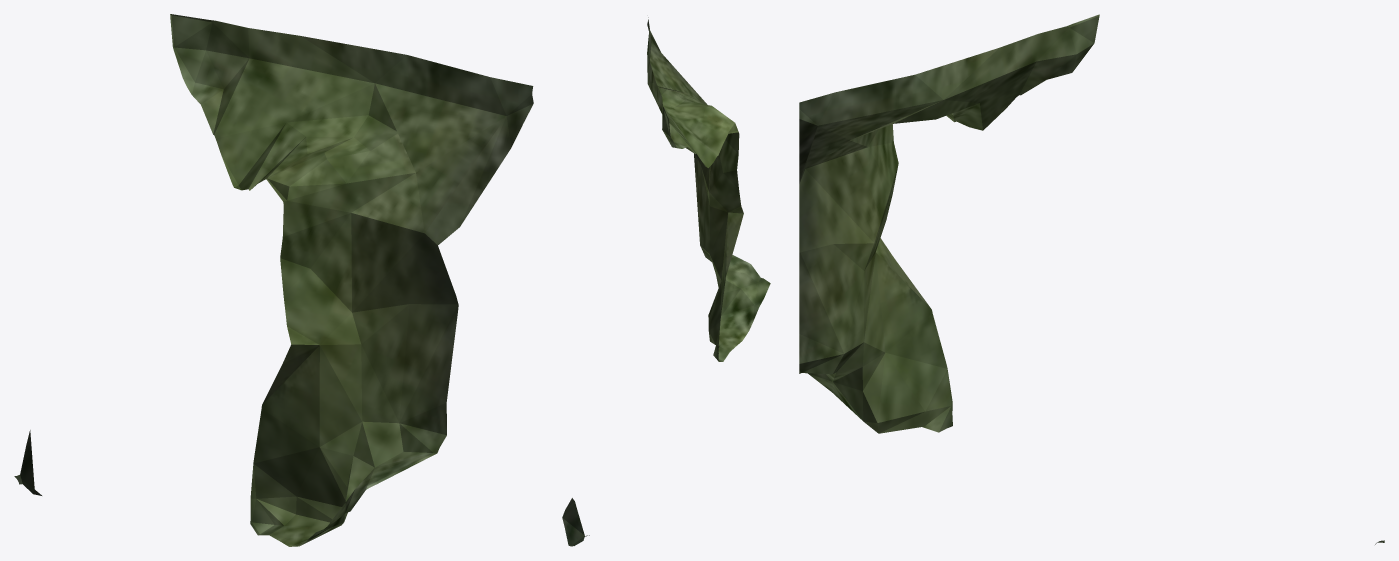
The picture shows the model from 3 angles, left to right: view 1: azimuth 30°, elevation 25°; view 2: azimuth 150°, elevation 25°; view 3: azimuth 270°, elevation 25°; orthographic projection. The views are drawn at different scales.
Size of the model in its own units: 1.06 by 2.95 by 2.95.
1 material, 1 textured.
